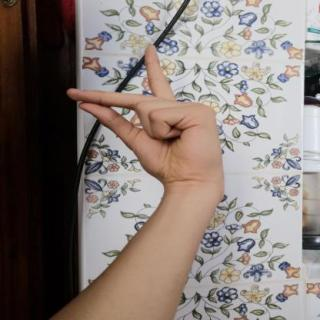TAA: (56, 36, 230, 194)
